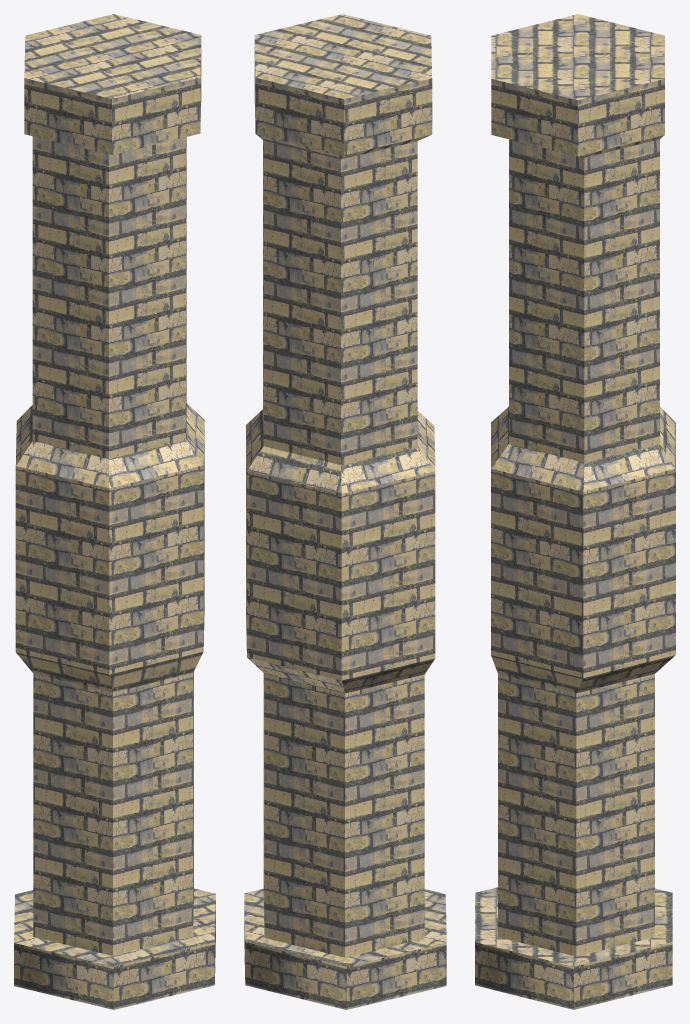
File: pilar a.obj
3 renders of one model, left to right at view 1: azimuth 30°, elevation 25°; view 2: azimuth 150°, elevation 25°; view 3: azimuth 270°, elevation 25°, orthographic.
Visible parts, largest first — view 1: pilar a; view 2: pilar a; view 3: pilar a.
Part boxes in pixels (x1=…): pilar a: x1=14, y1=14, x2=215, y2=1009; pilar a: x1=244, y1=14, x2=446, y2=1009; pilar a: x1=475, y1=14, x2=675, y2=1009.
Bounding box in the file's own units: 3.02 × 12.92 × 2.6.
Materials: 1 (1 with a texture image).
